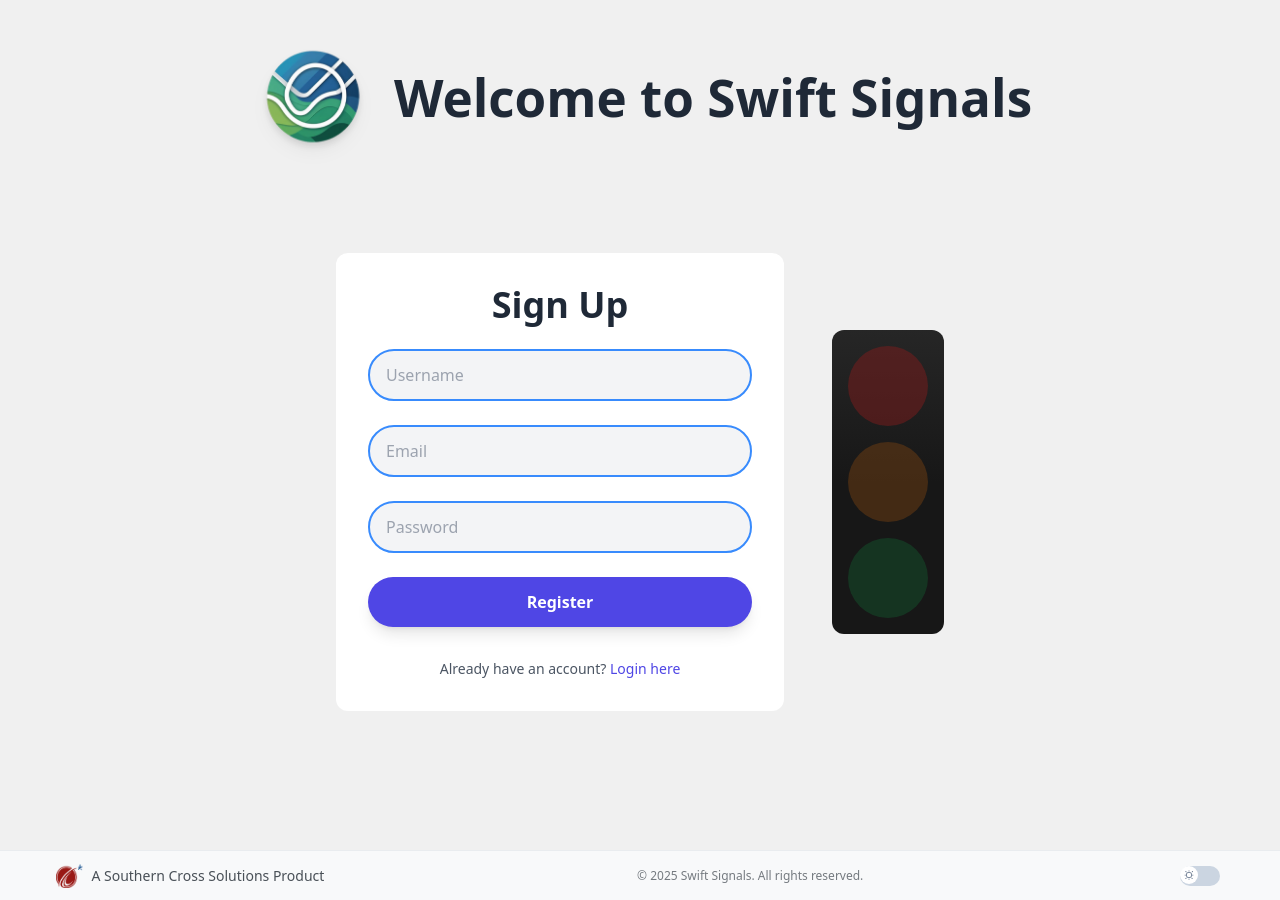
Test: SignUp Page › submits form successfully and navigates to login
The image size is (1280, 900).
Step 1. Type "testuser" into the field with placeholder "Username" → {"x": 560, "y": 375}, box [368,349,752,401]
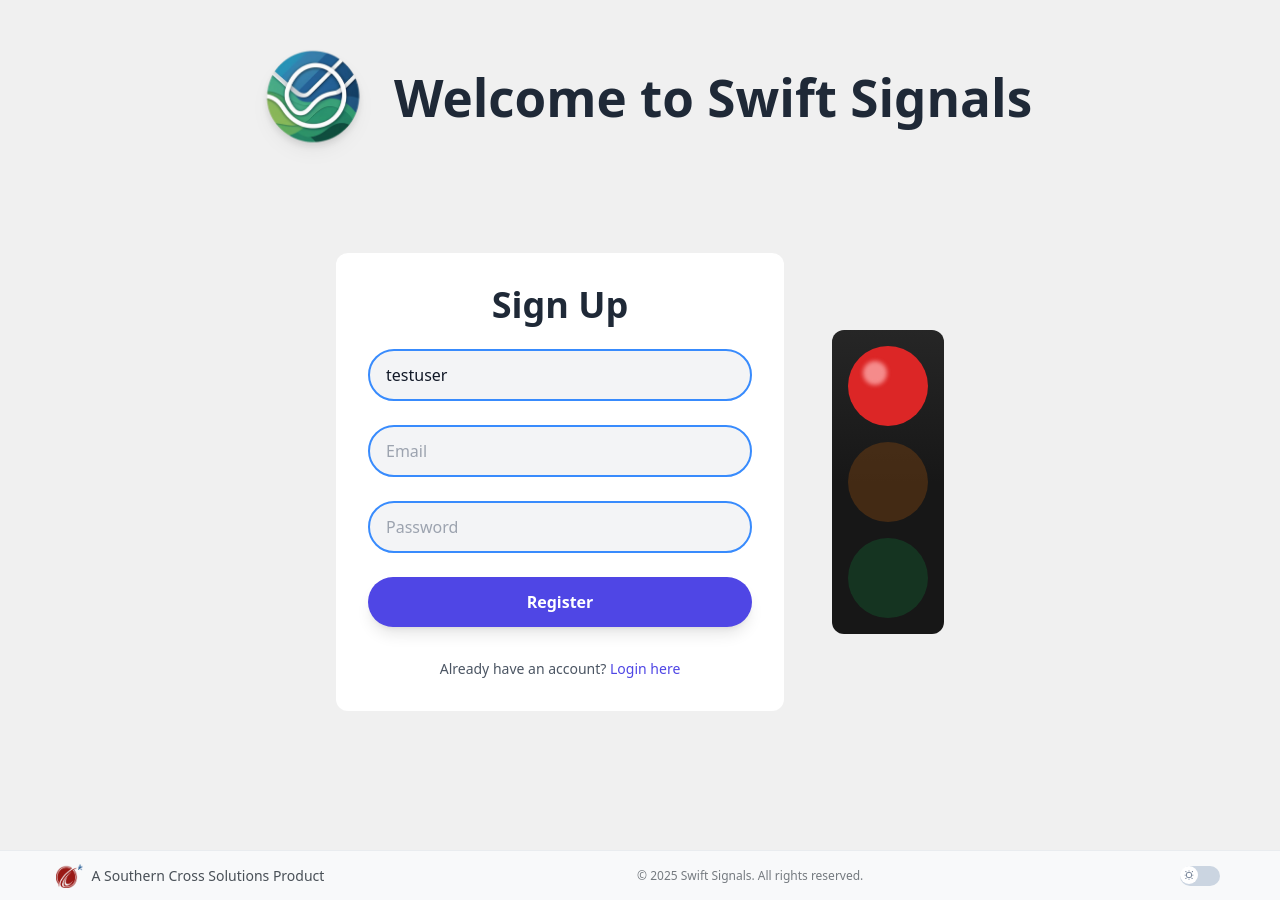
Step 2. Type "test@example.com" into the field with placeholder "Email" → {"x": 560, "y": 451}, box [368,425,752,477]
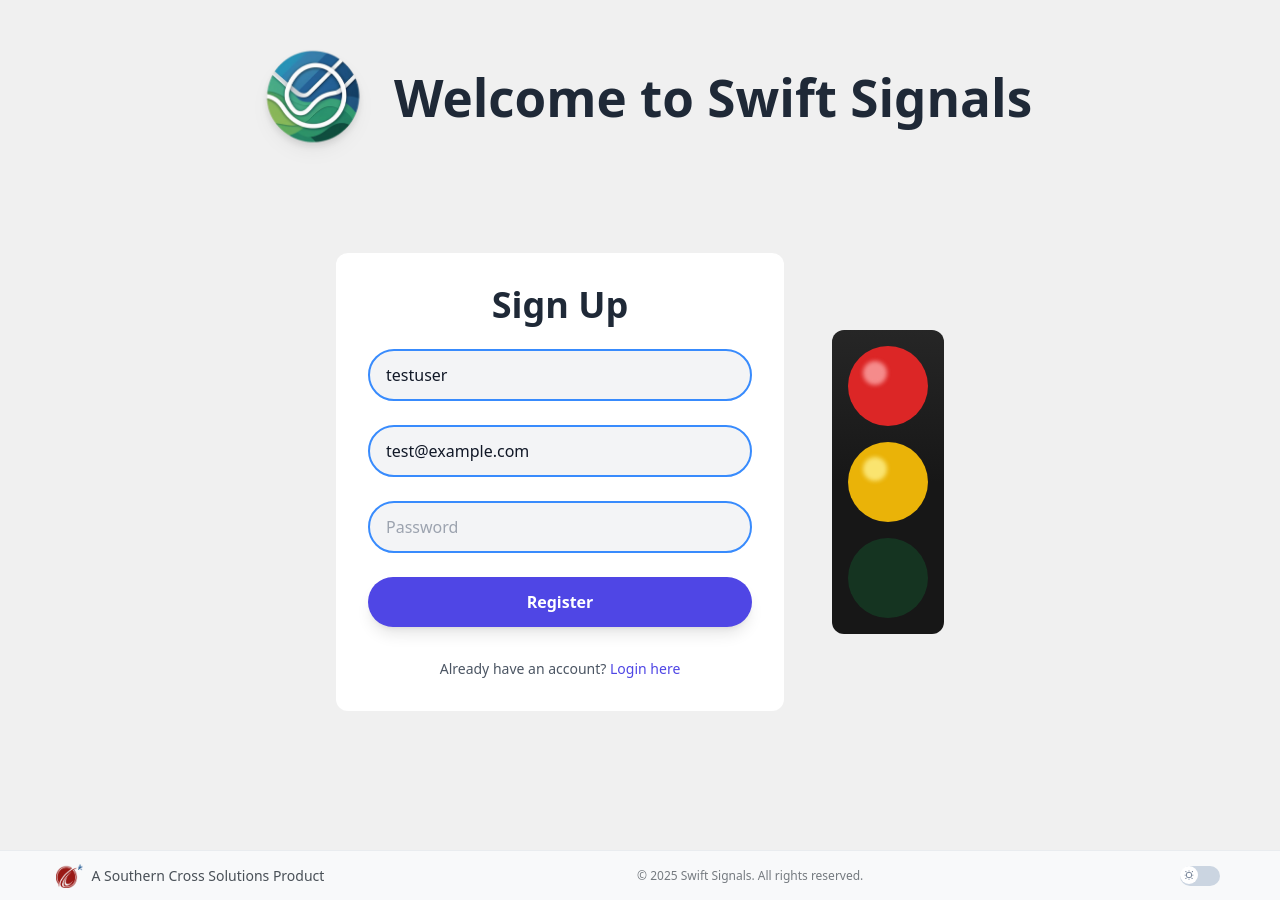
Step 3. Type "password123" into the password field with placeholder "Password" → {"x": 560, "y": 527}, box [368,501,752,553]
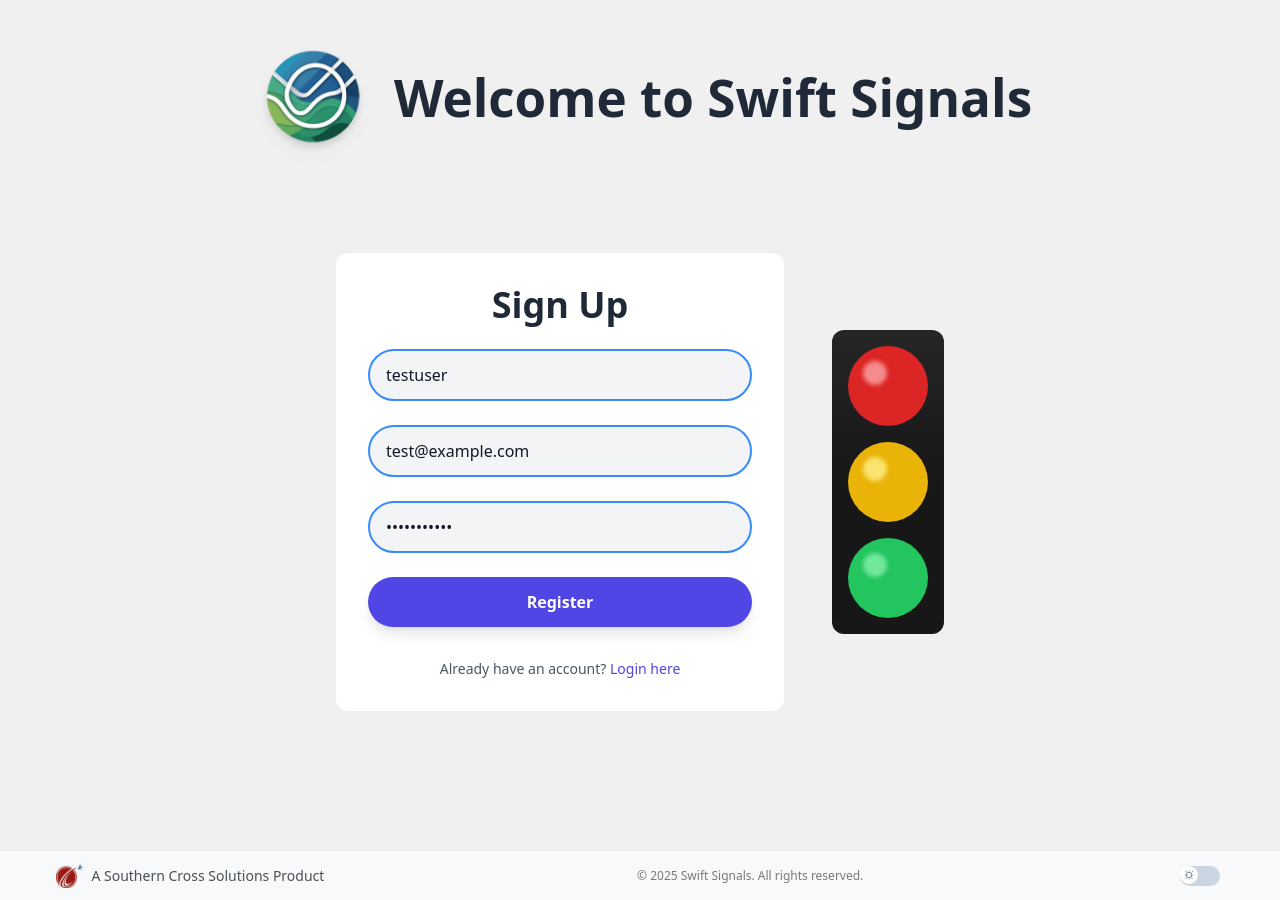
Step 4. Click the button "Register" → {"x": 560, "y": 602}, box [368,577,752,627]
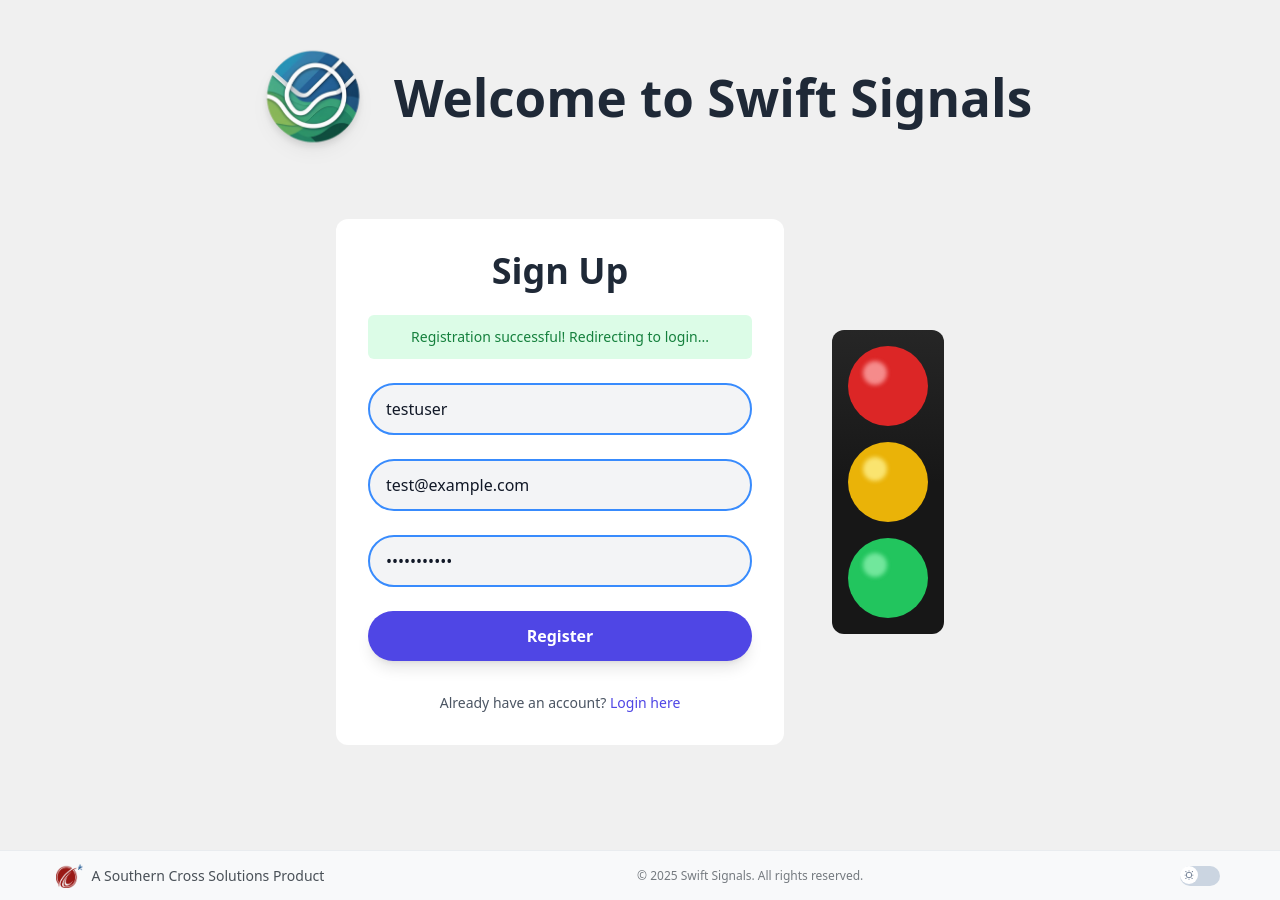
expect the button "Registering..." is shown: met, box [368,611,752,661]
expect the text "Registration successful! Redirecting to login..." is shown: met, box [411,327,709,346]
